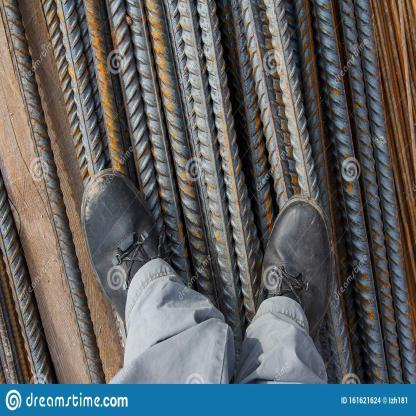bota: (78, 162, 169, 326), (254, 191, 340, 341)
